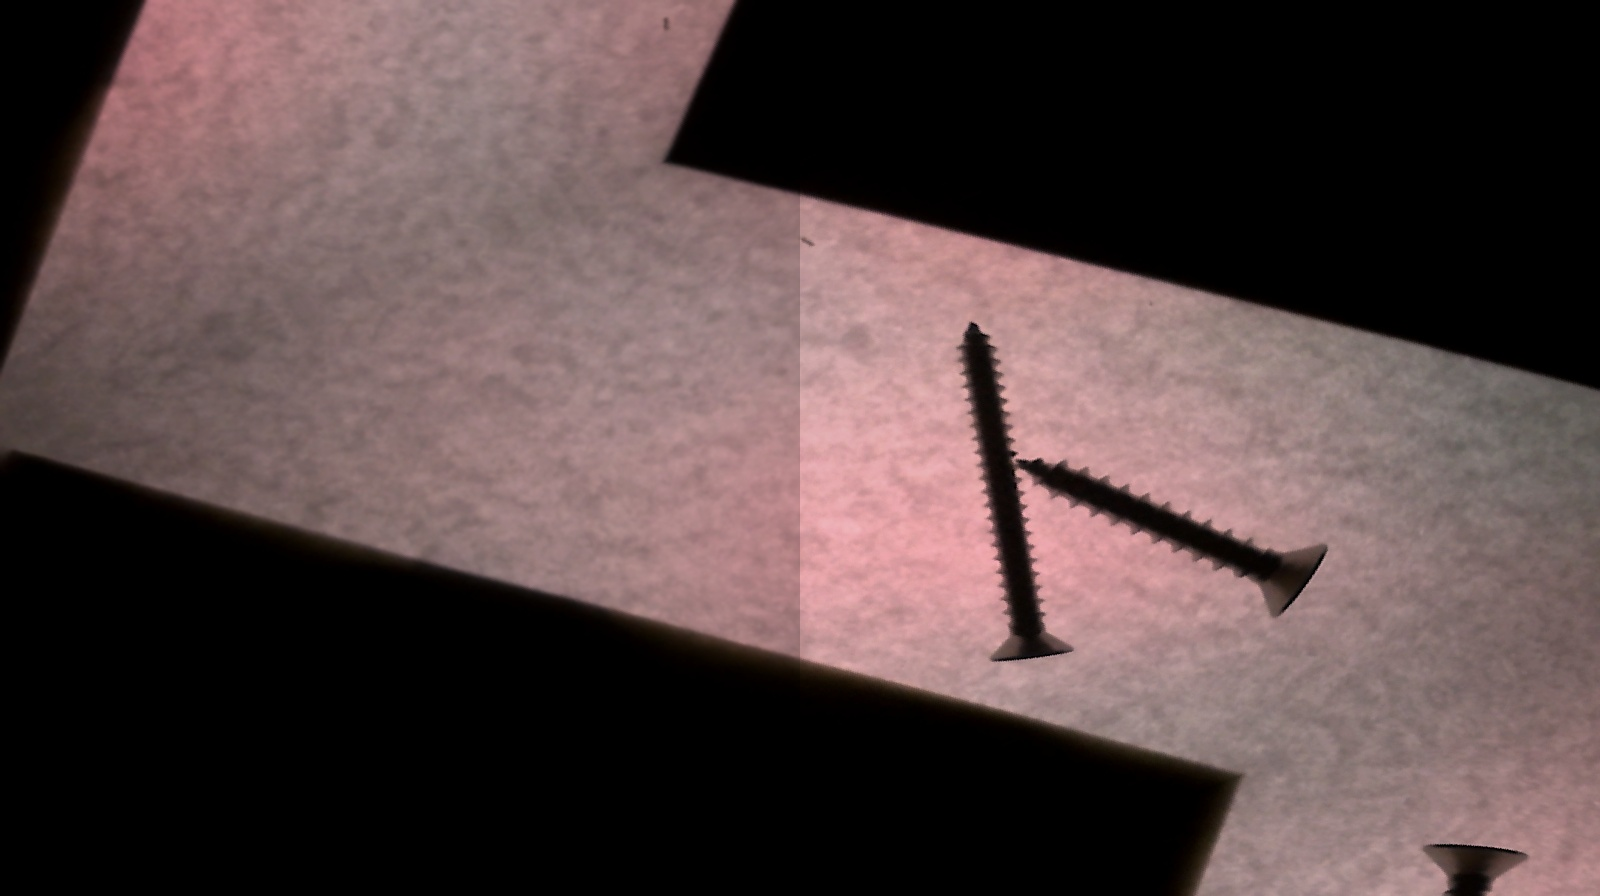S001: (1012, 375, 1358, 671)
S002: (810, 316, 1174, 683)
